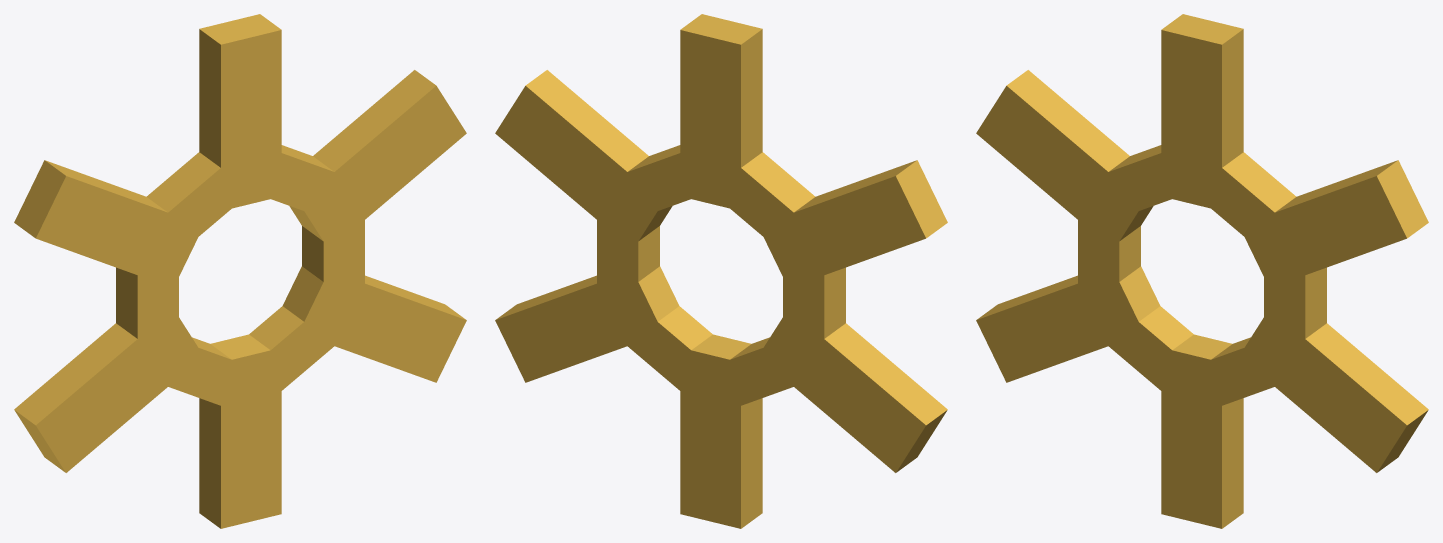
File: golem_gear.fbx
3 views of the same model, side by side, from view 1: azimuth 30°, elevation 25°; view 2: azimuth 150°, elevation 25°; view 3: azimuth 330°, elevation 25° (orthographic).
Visible parts, largest first — view 1: gear; view 2: gear; view 3: gear.
Boxes of the visible parts, x1,y1,x2,y2 form: gear: (14, 14, 466, 528); gear: (495, 14, 947, 528); gear: (976, 14, 1428, 528).
Size of the model in its own units: 366 by 393 by 32.
